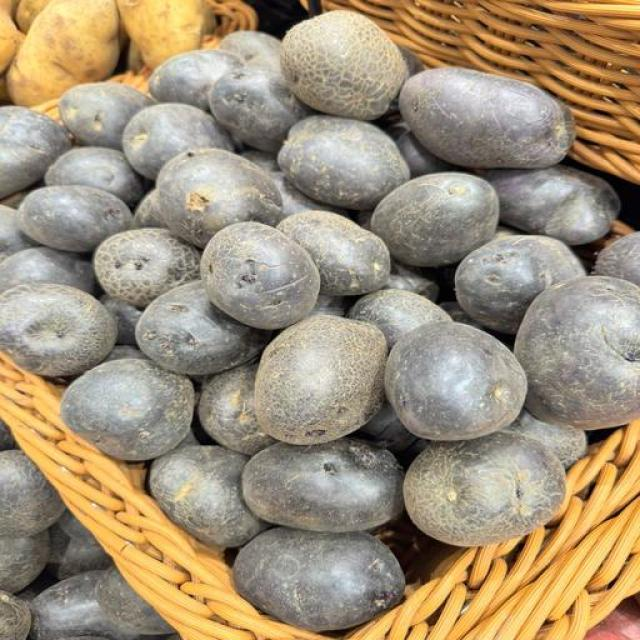organic: (0, 0, 640, 640), (404, 432, 564, 546), (234, 528, 404, 631), (255, 315, 387, 444), (243, 438, 403, 532)
